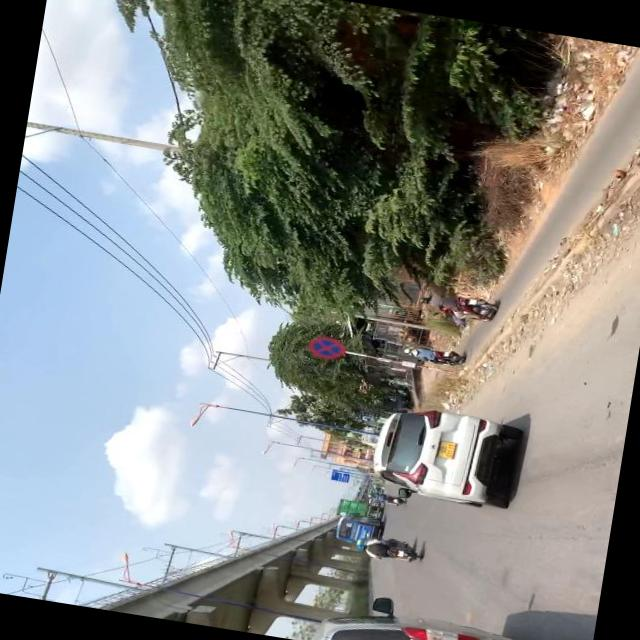P-130: (302, 336, 348, 360)
